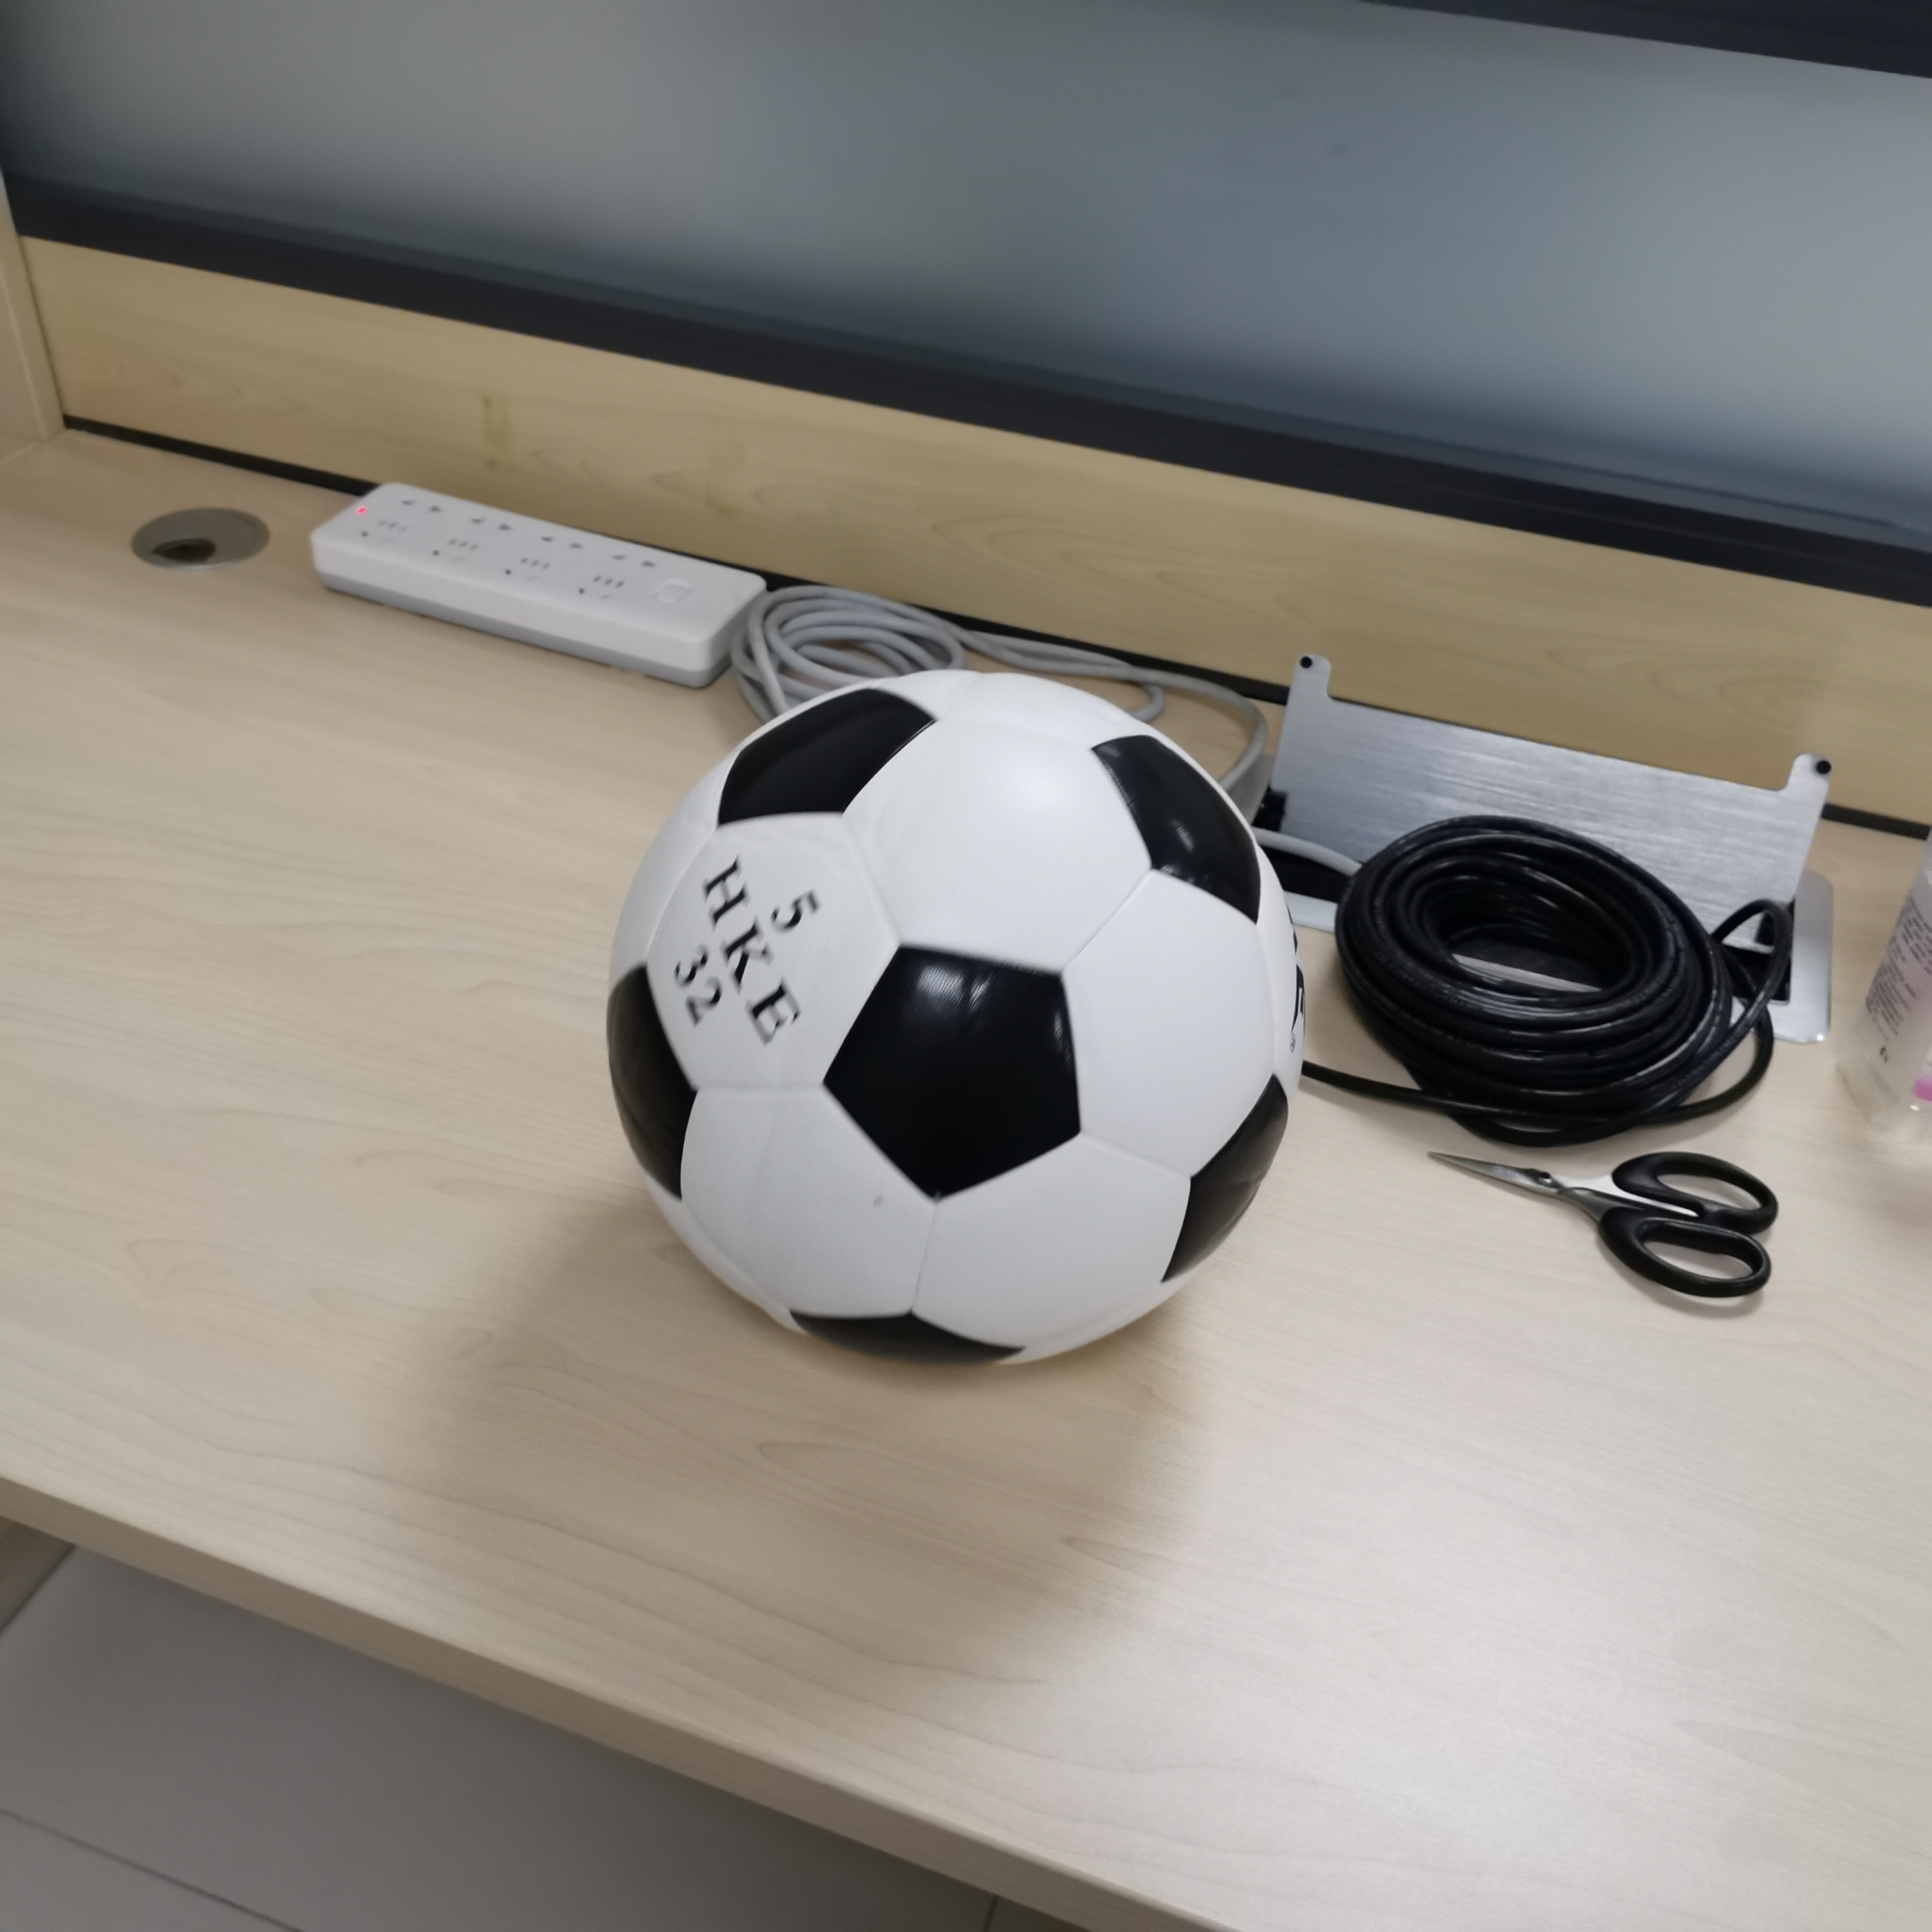football: (605, 672, 1307, 1366)
